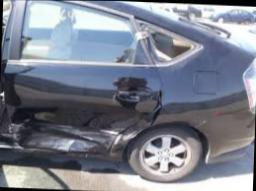Door: (5, 61, 162, 162)
